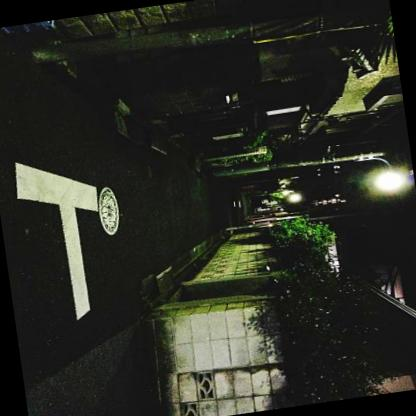manholes: (82, 177, 142, 244)
